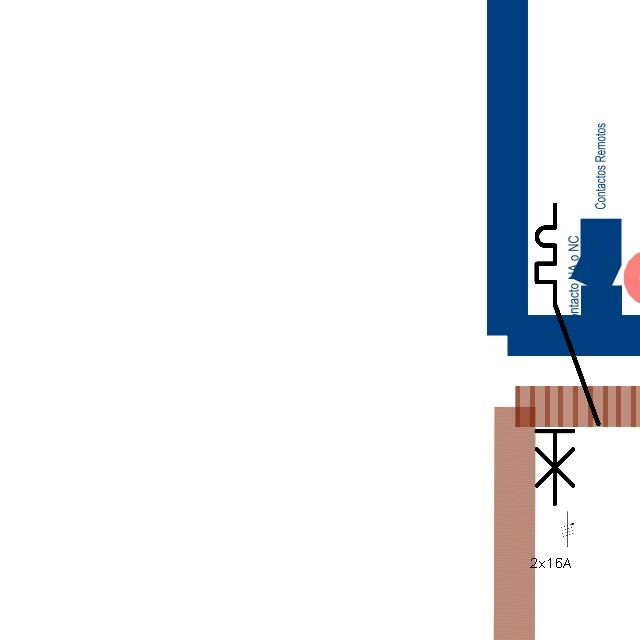interruptor_termomagnetico: (529, 197, 606, 512)
